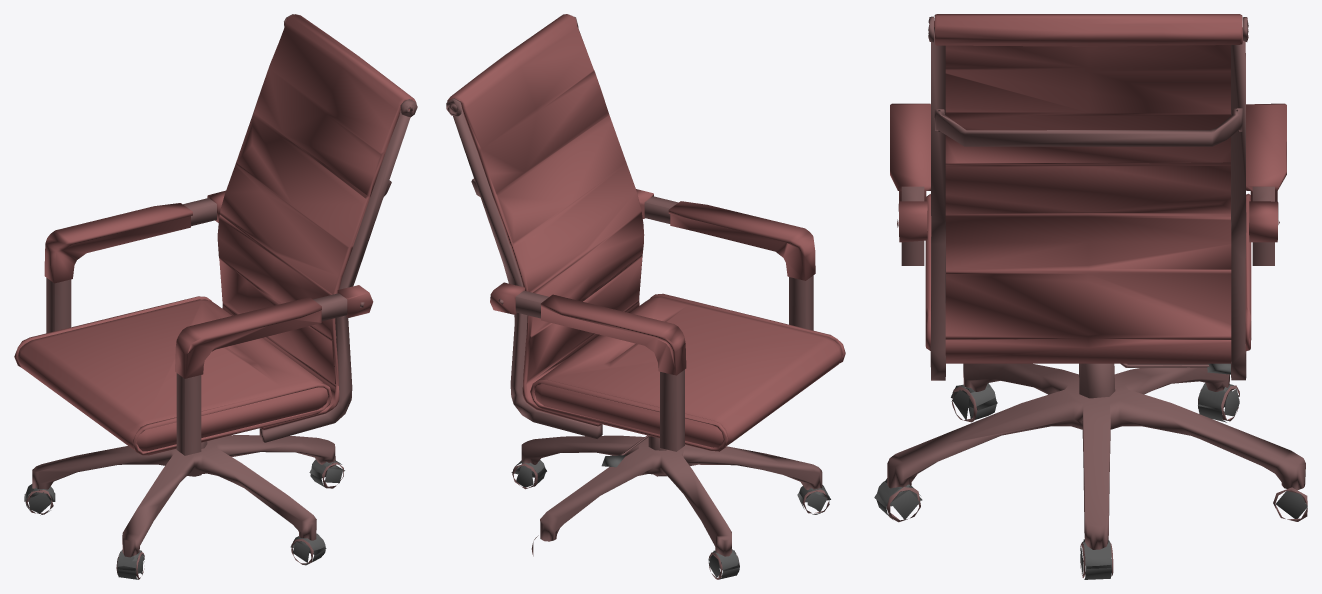
File: chair.glb
The picture shows the model from 3 angles, left to right: view 1: azimuth 30°, elevation 25°; view 2: azimuth 150°, elevation 25°; view 3: azimuth 270°, elevation 25°; orthographic projection. The views are drawn at different scales.
Parts seen in each view (by area): view 1: chair; view 2: chair; view 3: chair.
Boxes of the visible parts, x1,y1,x2,y2 form: chair: [14, 14, 417, 579]; chair: [446, 14, 845, 579]; chair: [874, 14, 1307, 579].
Bounding box in the file's own units: 0.7205 × 1.01 × 0.6929.
